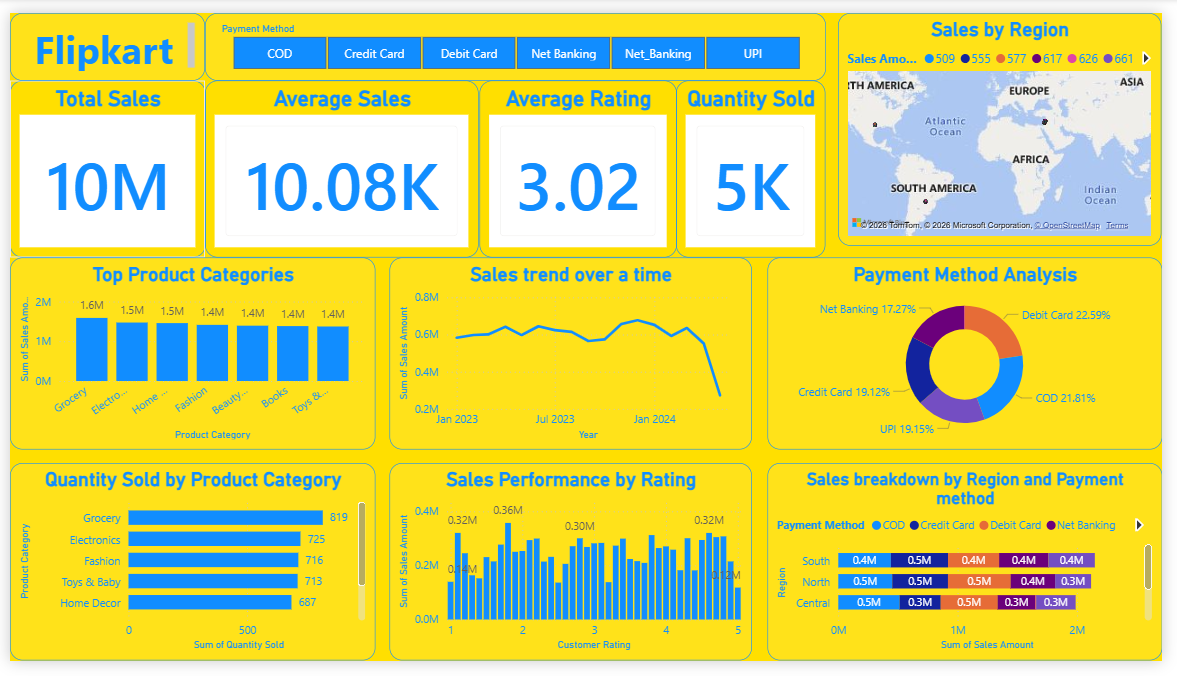

Layout of this report page (visuals, bound fields, positions):
{"tool":"powerbi","page":{"name":"Page 1","canvas":[1280,720],"ordinal":0},"visuals":[{"type":"cardVisual","title":"Total Sales","fields":{"Data":["Sum(Sheet1.Sales Amount)"]},"box":[0,75.6,217.3,196.5],"z":0},{"type":"cardVisual","title":"Average Sales","fields":{"Data":["Avg(Sheet1.Sales Amount)"]},"box":[217.3,75.6,304.3,196.5],"z":1000},{"type":"cardVisual","title":"Average Rating","fields":{"Data":["Avg(Sheet1.Customer Rating)"]},"box":[521.6,75.6,219.2,196.5],"z":2000},{"type":"cardVisual","title":"Quantity Sold","fields":{"Data":["Sum(Sheet1.Quantity Sold)"]},"box":[740.8,75.6,166.3,196.5],"z":3000},{"type":"map","title":"Sales by Region","fields":{"Category":["Sheet1.Region"],"Series":["Sheet1.Sales Amount"]},"box":[920.3,0,359.1,258.9],"z":4000},{"type":"columnChart","title":"Top Product Categories","fields":{"Category":["Sheet1.Product Category"],"Y":["Sum(Sheet1.Sales Amount)"]},"box":[0,272.1,406.3,213.5],"z":5000},{"type":"lineChart","title":"Sales trend over a time ","fields":{"Category":["Sheet1.Order Date.Variation.Date Hierarchy.Year","Sheet1.Order Date.Variation.Date Hierarchy.Quarter","Sheet1.Order Date.Variation.Date Hierarchy.Month","Sheet1.Order Date.Variation.Date Hierarchy.Day"],"Y":["Sum(Sheet1.Sales Amount)"]},"box":[421.4,272.1,402.5,213.5],"z":6000},{"type":"donutChart","title":" Payment Method Analysis","fields":{"Category":["Sheet1.Payment Method"],"Y":["Sum(Sheet1.Sales Amount)"]},"box":[841,272.1,438.4,213.5],"z":7000},{"type":"clusteredBarChart","title":"Quantity Sold by Product Category","fields":{"Category":["Sheet1.Product Category"],"Y":["Sum(Sheet1.Quantity Sold)"]},"box":[0,500.8,406.3,219.2],"z":8000},{"type":"clusteredColumnChart","title":"Sales Performance by Rating","fields":{"Category":["Sheet1.Customer Rating"],"Y":["Sum(Sheet1.Sales Amount)"]},"box":[421.4,500.8,402.5,219.2],"z":9000},{"type":"barChart","title":"Sales breakdown by Region and Payment method","fields":{"Category":["Sheet1.Region"],"Y":["Sum(Sheet1.Sales Amount)"],"Series":["Sheet1.Payment Method"]},"box":[841,500.8,438.4,219.2],"z":9001},{"type":"slicer","fields":{"Values":["Sheet1.Payment Method"]},"box":[204.1,0,701.1,75.6],"z":9002},{"type":"textbox","box":[0,0,204.1,75.6],"z":9003}]}

Visuals, with their boxes in screenshot pixels (x1, y1, x2, y2), scaled from the page's 1280x720 canvas onto the 1177x676 screenshot:
"Total Sales" cardVisual: [left=0, top=71, right=200, bottom=255]
"Average Sales" cardVisual: [left=200, top=71, right=480, bottom=255]
"Average Rating" cardVisual: [left=480, top=71, right=681, bottom=255]
"Quantity Sold" cardVisual: [left=681, top=71, right=834, bottom=255]
"Sales by Region" map: [left=846, top=0, right=1176, bottom=243]
"Top Product Categories" columnChart: [left=0, top=255, right=374, bottom=456]
"Sales trend over a time " lineChart: [left=387, top=255, right=758, bottom=456]
" Payment Method Analysis" donutChart: [left=773, top=255, right=1176, bottom=456]
"Quantity Sold by Product Category" clusteredBarChart: [left=0, top=470, right=374, bottom=675]
"Sales Performance by Rating" clusteredColumnChart: [left=387, top=470, right=758, bottom=675]
"Sales breakdown by Region and Payment method" barChart: [left=773, top=470, right=1176, bottom=675]
slicer - Sheet1.Payment Method: [left=188, top=0, right=832, bottom=71]
textbox: [left=0, top=0, right=188, bottom=71]
